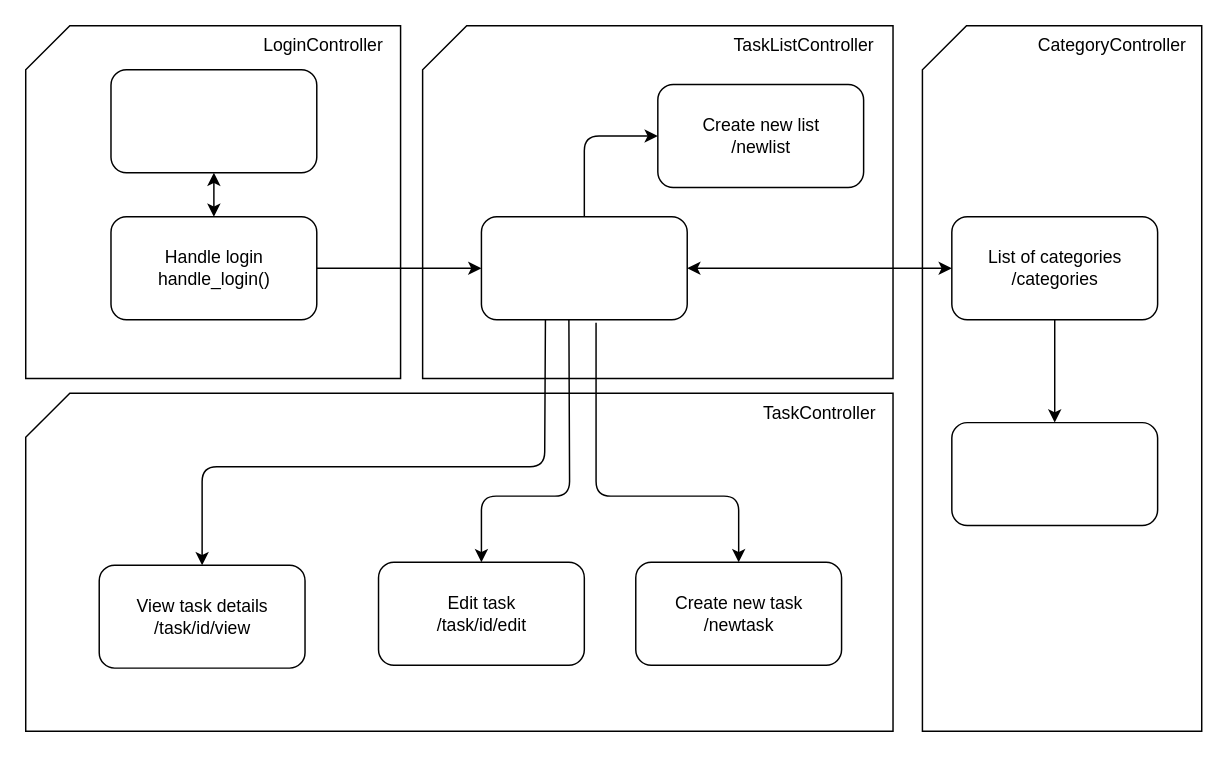
The diagram is 1227 pixels wide and 757 high, and some of its shapes have lost their labels. The centre of each missing label's shape, as x and y in pixels:
Create new category /newcategory: point (1054, 473)
Login /login: point (213, 120)
Task list view /index (can start, complete & remove tasks): point (583, 267)
